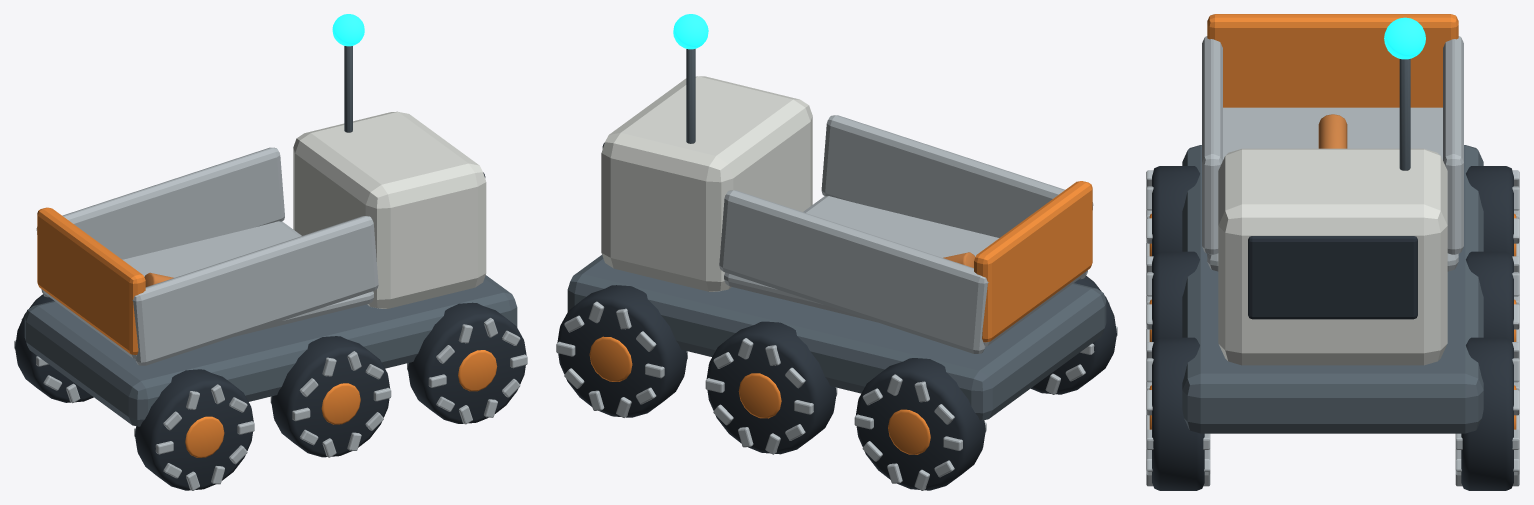
File: hauler.glb
3 renders of one model, left to right at view 1: azimuth 30°, elevation 25°; view 2: azimuth 150°, elevation 25°; view 3: azimuth 270°, elevation 25°, orthographic. The views are drawn at different scales.
Visible parts, largest first — view 1: Hauler_Cab, Hauler_Chassis, Hauler_BedSide_L, Hauler_BedSide_R, Hauler_BedBulkhead, Hauler_Wheel_1_L, Hauler_Wheel_2_L, Hauler_Wheel_3_L, Hauler, Hauler_BedFloor, Hauler_Wheel_1_R, Hauler_Wheel_1_L_Hub (+4 smaller); view 2: Hauler_Cab, Hauler_Chassis, Hauler_BedSide_R, Hauler_BedSide_L, Hauler_BedBulkhead, Hauler_Wheel_1_R, Hauler_Wheel_2_R, Hauler_Wheel_3_R, Hauler, Hauler_BedFloor, Hauler_Wheel_1_L, Hauler_Wheel_1_R_Hub (+4 smaller); view 3: Hauler_Cab, Hauler_Chassis, Hauler_BedBulkhead, Hauler_CabGlass, Hauler_BedFloor, Hauler_Wheel_3_L, Hauler_Wheel_3_R, Hauler, Hauler_BedSide_L, Hauler_BedSide_R, Hauler_Wheel_2_L, Hauler_Wheel_2_R (+5 smaller).
Part boxes in pixels (x1=…): Hauler_Cab: x1=293, y1=111, x2=486, y2=308; Hauler_Chassis: x1=24, y1=275, x2=517, y2=426; Hauler_BedSide_L: x1=132, y1=216, x2=378, y2=365; Hauler_BedSide_R: x1=36, y1=147, x2=284, y2=297; Hauler_BedBulkhead: x1=37, y1=207, x2=145, y2=354; Hauler_Wheel_1_L: x1=135, y1=369, x2=253, y2=490; Hauler_Wheel_2_L: x1=271, y1=336, x2=390, y2=457; Hauler_Wheel_3_L: x1=407, y1=302, x2=526, y2=423; Hauler: x1=14, y1=318, x2=527, y2=490; Hauler_BedFloor: x1=42, y1=221, x2=373, y2=358; Hauler_Wheel_1_R: x1=15, y1=294, x2=93, y2=402; Hauler_Wheel_1_L_Hub: x1=185, y1=416, x2=224, y2=457; Hauler_Cab: x1=601, y1=76, x2=812, y2=291; Hauler_Chassis: x1=567, y1=255, x2=1106, y2=420; Hauler_BedSide_R: x1=719, y1=190, x2=988, y2=353; Hauler_BedSide_L: x1=821, y1=115, x2=1093, y2=279; Hauler_BedBulkhead: x1=974, y1=181, x2=1092, y2=342; Hauler_Wheel_1_R: x1=856, y1=358, x2=985, y2=490; Hauler_Wheel_2_R: x1=706, y1=321, x2=836, y2=454; Hauler_Wheel_3_R: x1=557, y1=285, x2=687, y2=417; Hauler: x1=556, y1=301, x2=1117, y2=490; Hauler_BedFloor: x1=724, y1=196, x2=1086, y2=346; Hauler_Wheel_1_L: x1=1031, y1=276, x2=1116, y2=394; Hauler_Wheel_1_R_Hub: x1=888, y1=409, x2=930, y2=454; Hauler_Cab: x1=1218, y1=148, x2=1447, y2=365; Hauler_Chassis: x1=1182, y1=145, x2=1483, y2=433; Hauler_BedBulkhead: x1=1207, y1=14, x2=1458, y2=107; Hauler_CabGlass: x1=1248, y1=236, x2=1417, y2=319; Hauler_BedFloor: x1=1207, y1=107, x2=1458, y2=271; Hauler_Wheel_3_L: x1=1152, y1=337, x2=1204, y2=490; Hauler_Wheel_3_R: x1=1461, y1=337, x2=1513, y2=490; Hauler: x1=1146, y1=170, x2=1519, y2=486; Hauler_BedSide_L: x1=1202, y1=36, x2=1222, y2=254; Hauler_BedSide_R: x1=1443, y1=36, x2=1463, y2=254; Hauler_Wheel_2_L: x1=1152, y1=251, x2=1199, y2=341; Hauler_Wheel_2_R: x1=1466, y1=251, x2=1513, y2=341.
Size of the model in its own units: 4.4 by 3.75 by 2.85.
